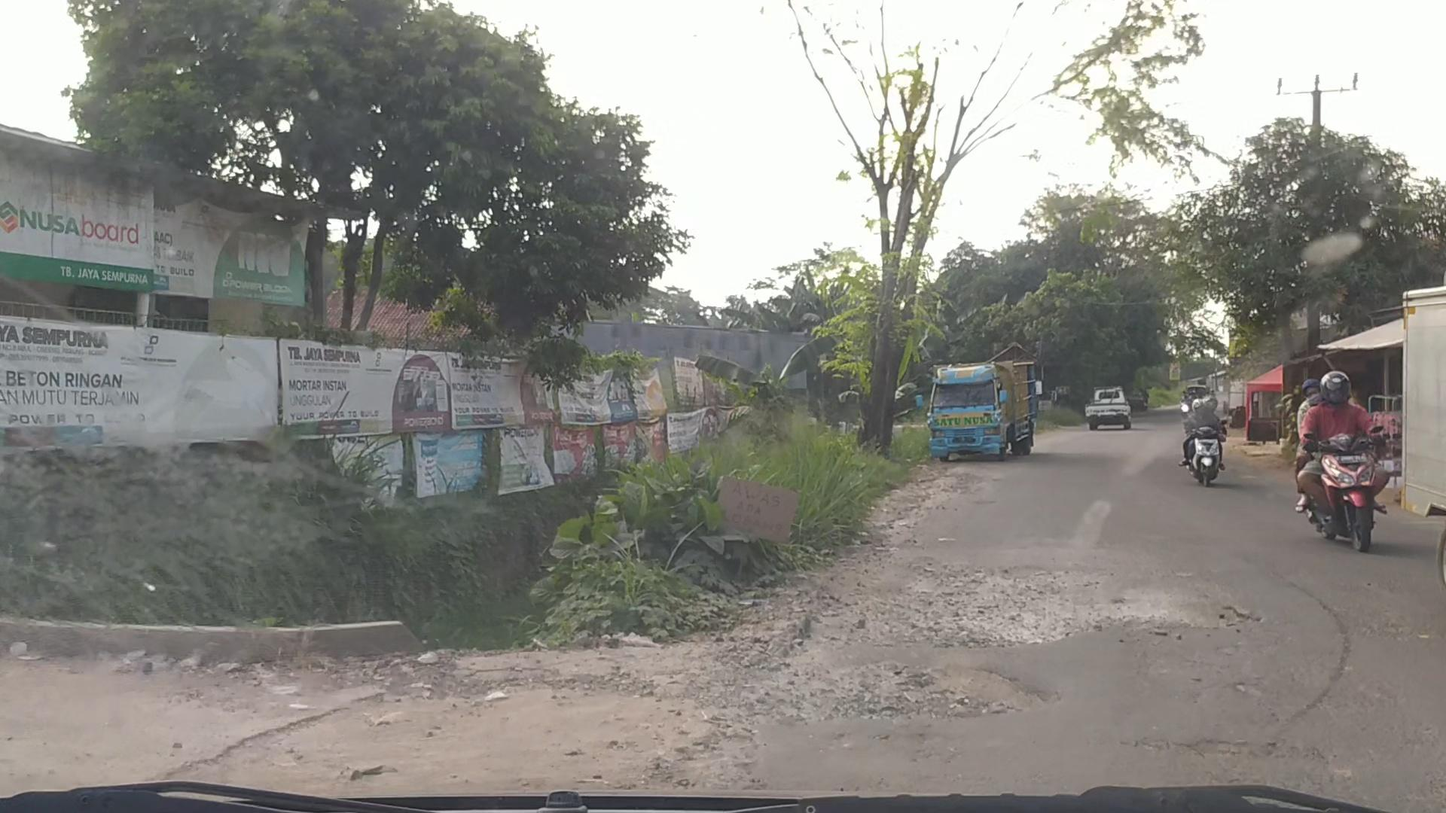pothole: (810, 556, 1259, 653), (756, 660, 1066, 725)
